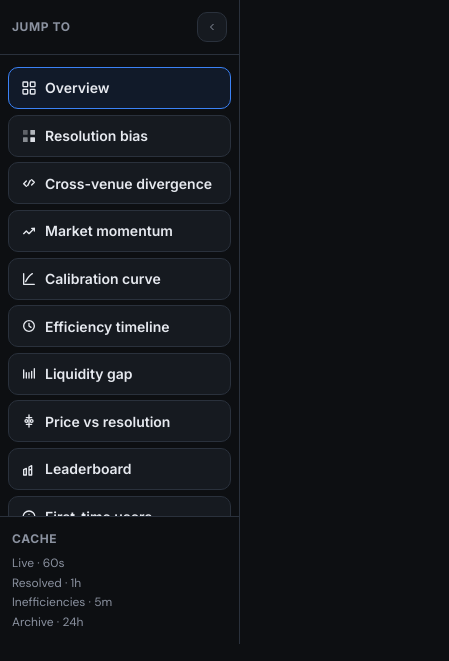
Scenario: Sidebar › stops responding to scroll events after the tooltip is closed
Hover over the button "Liquidity gap" at (120, 374), box [8,353,231,395]
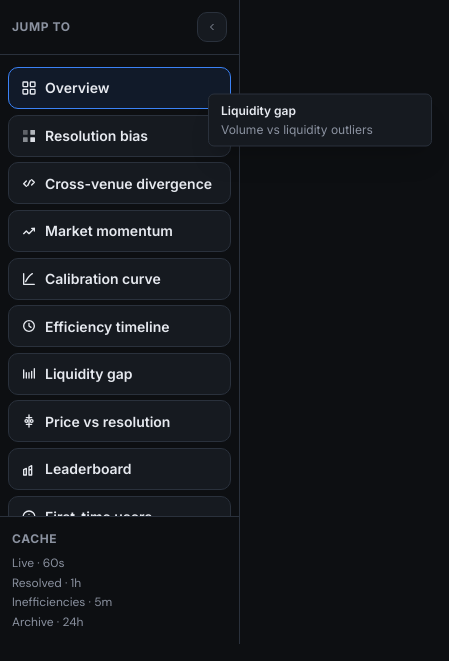
Now the tooltip "Liquidity gap Volume vs liquidity outliers" is shown, box [208,94,432,146]
Move the pointer off the button "Liquidity gap", box [8,353,231,395]
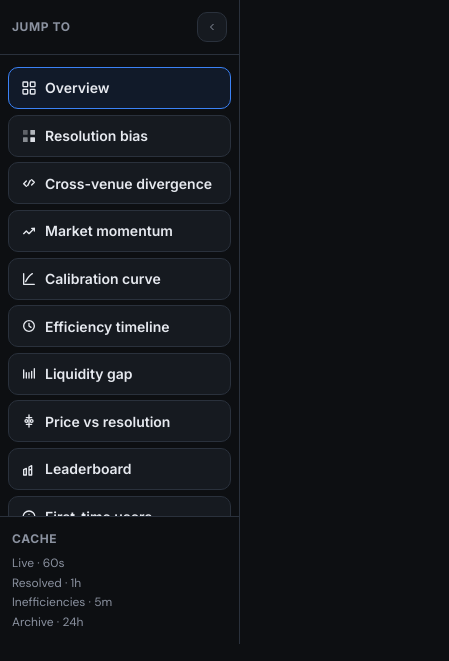
Now the tooltip "Liquidity gap Volume vs liquidity outliers" is gone
